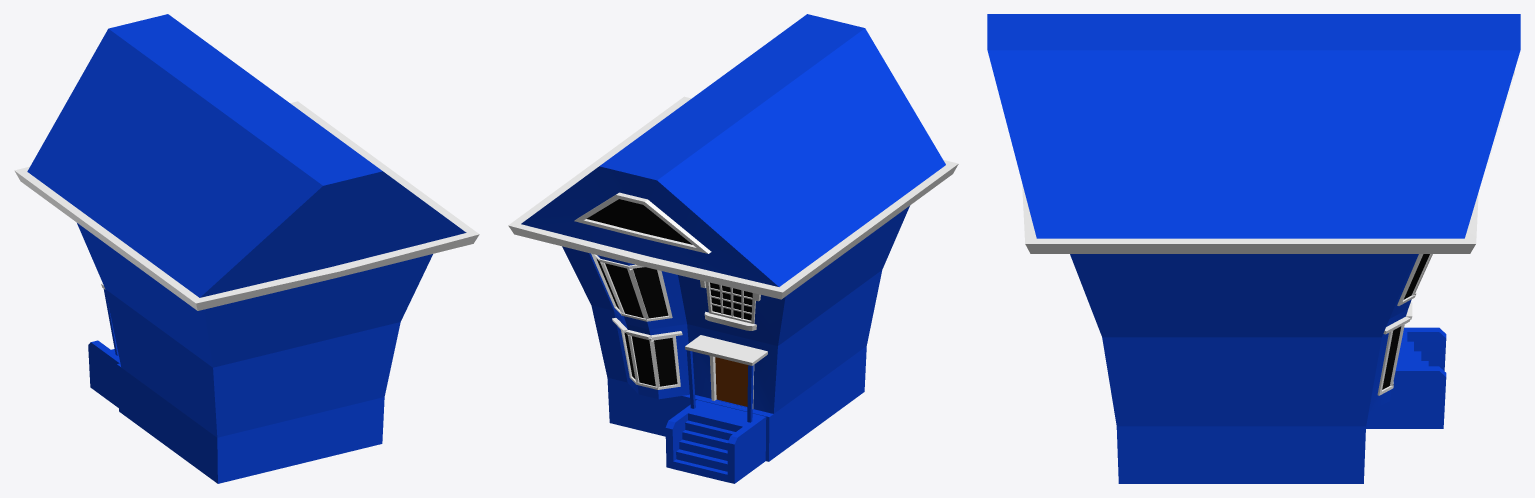
The model's file is houseresidentielbluestylized.fbx.
3 views of the same model, side by side, from view 1: azimuth 30°, elevation 25°; view 2: azimuth 150°, elevation 25°; view 3: azimuth 270°, elevation 25° (orthographic). The views are drawn at different scales.
Parts seen in each view (by area): view 1: houseresidentielbluestylized; view 2: houseresidentielbluestylized; view 3: houseresidentielbluestylized.
Boxes of the visible parts, x1,y1,x2,y2 form: houseresidentielbluestylized: [14, 14, 479, 483]; houseresidentielbluestylized: [508, 14, 958, 483]; houseresidentielbluestylized: [987, 14, 1520, 483].
Bounding box in the file's own units: 947 × 1034 × 1243.
